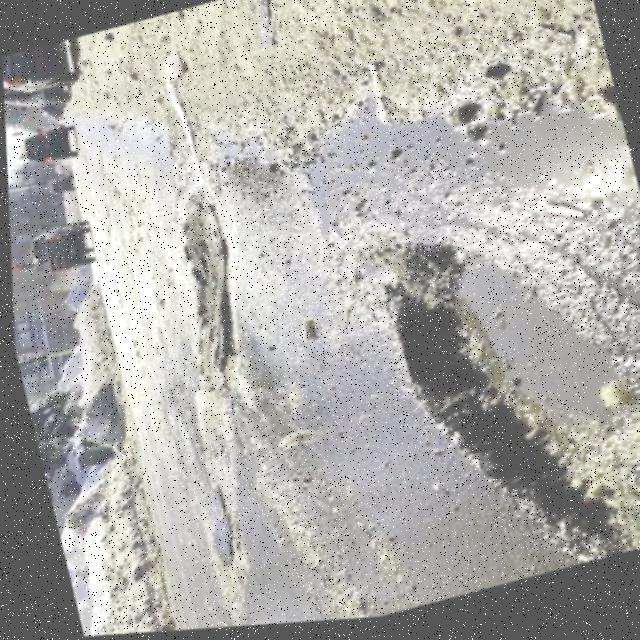pothole: (357, 192, 640, 608)
